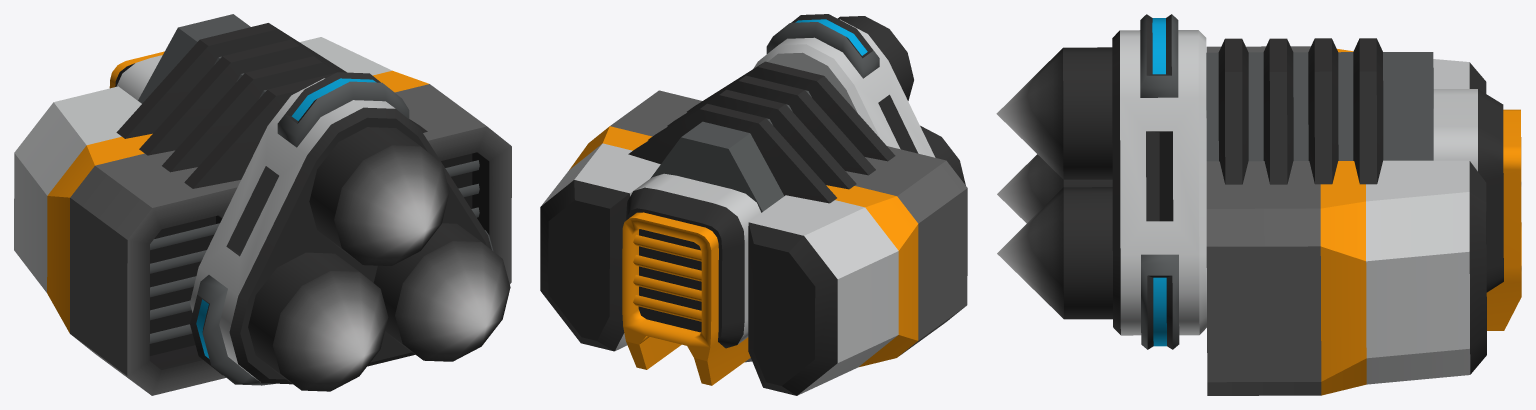
The model's file is Turret_001_Part_04.fbx.
The picture shows the model from 3 angles, left to right: view 1: azimuth 30°, elevation 25°; view 2: azimuth 150°, elevation 25°; view 3: azimuth 270°, elevation 25°; orthographic projection. The views are drawn at different scales.
Visible parts, largest first — view 1: Turret_001_Part_04; view 2: Turret_001_Part_04; view 3: Turret_001_Part_04.
Boxes of the visible parts, x1,y1,x2,y2 form: Turret_001_Part_04: (14, 14, 511, 395); Turret_001_Part_04: (540, 14, 967, 395); Turret_001_Part_04: (996, 14, 1521, 395).
Bounding box in the file's own units: 141 × 168 × 108.
